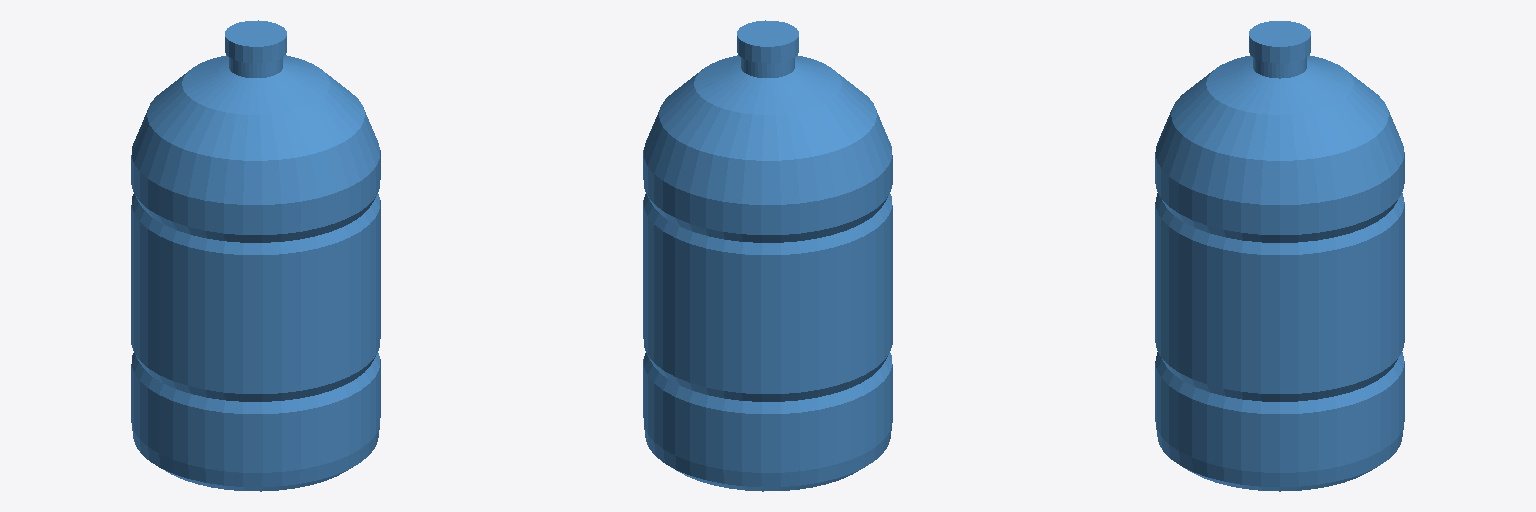
URDF robot description (nova_environment_object_0354):
<?xml version="1.0" encoding="utf-8"?>
<!-- Nova movable environment body for the bundled PyBullet launcher. SI metres/kg/radians. Loaded at its body origin; hinge/slider bodies use a fixed world_anchor base with one passive joint. Inertia is about COM. -->
<robot name="nova_environment_object_0354">
  <link name="body">
    <inertial>
      <origin xyz="0 0 0.21" rpy="0 0 0" />
      <mass value="19.6" />
      <inertia ixx="0.481465833" iyy="0.481465833" izz="0.178605" ixy="0" ixz="0" iyz="0" />
    </inertial>
    <visual>
      <origin xyz="0 0 0" rpy="0 0 0" />
      <geometry>
        <mesh filename="object_0354.obj" />
      </geometry>
      <material name="surface">
        <color rgba="0.37 0.62 0.84 0.7" />
      </material>
    </visual>
    <collision>
      <origin xyz="0 0 0" rpy="0 0 0" />
      <geometry>
        <mesh filename="object_0354_collision_00.obj" />
      </geometry>
    </collision>
  </link>
</robot>

--- What the picture shows (computed from the rendered views, not written in the file) ---
Views: 3 orthographic renders of the robot side by side, from view 1: azimuth 30°, elevation 25°; view 2: azimuth 150°, elevation 25°; view 3: azimuth 270°, elevation 25°.
Robot: nova_environment_object_0354 — 1 links, 0 joints (none); root link body; default pose: every joint at zero.
Links seen in each view (by area): view 1: body; view 2: body; view 3: body.
Boxes of the visible links, box(x1,y1,x2,y2) form: body: box(131, 20, 380, 491); body: box(643, 20, 892, 491); body: box(1155, 21, 1404, 491).
Size in the robot's own frame: 0.27 by 0.27 by 0.492 metres.
Meshes: 1 distinct files referenced, 1 mesh visuals loaded (1 OBJ).
